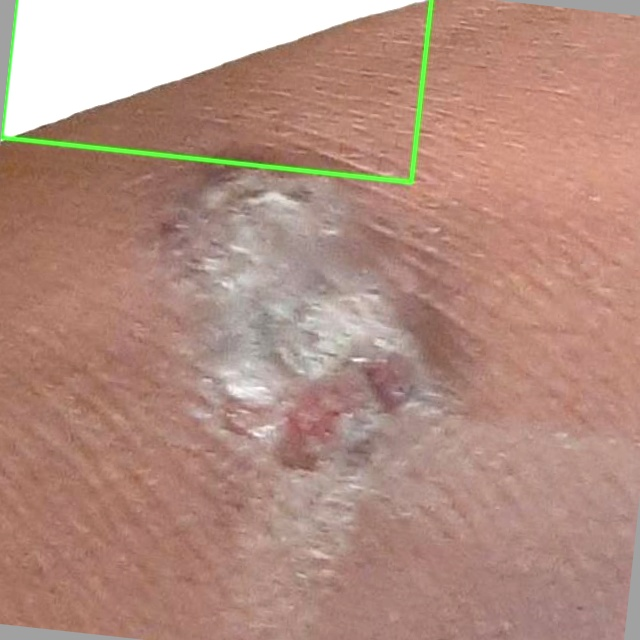Contact Dermatitis: (1, 0, 431, 182)
